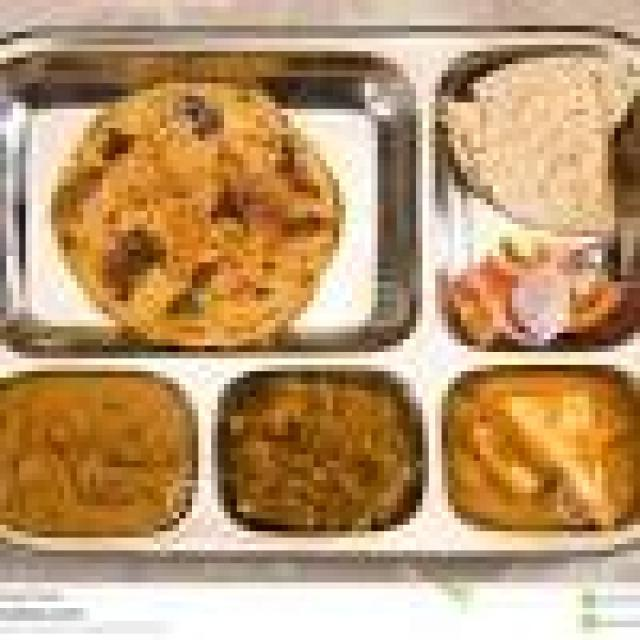roti: (56, 94, 355, 336)
